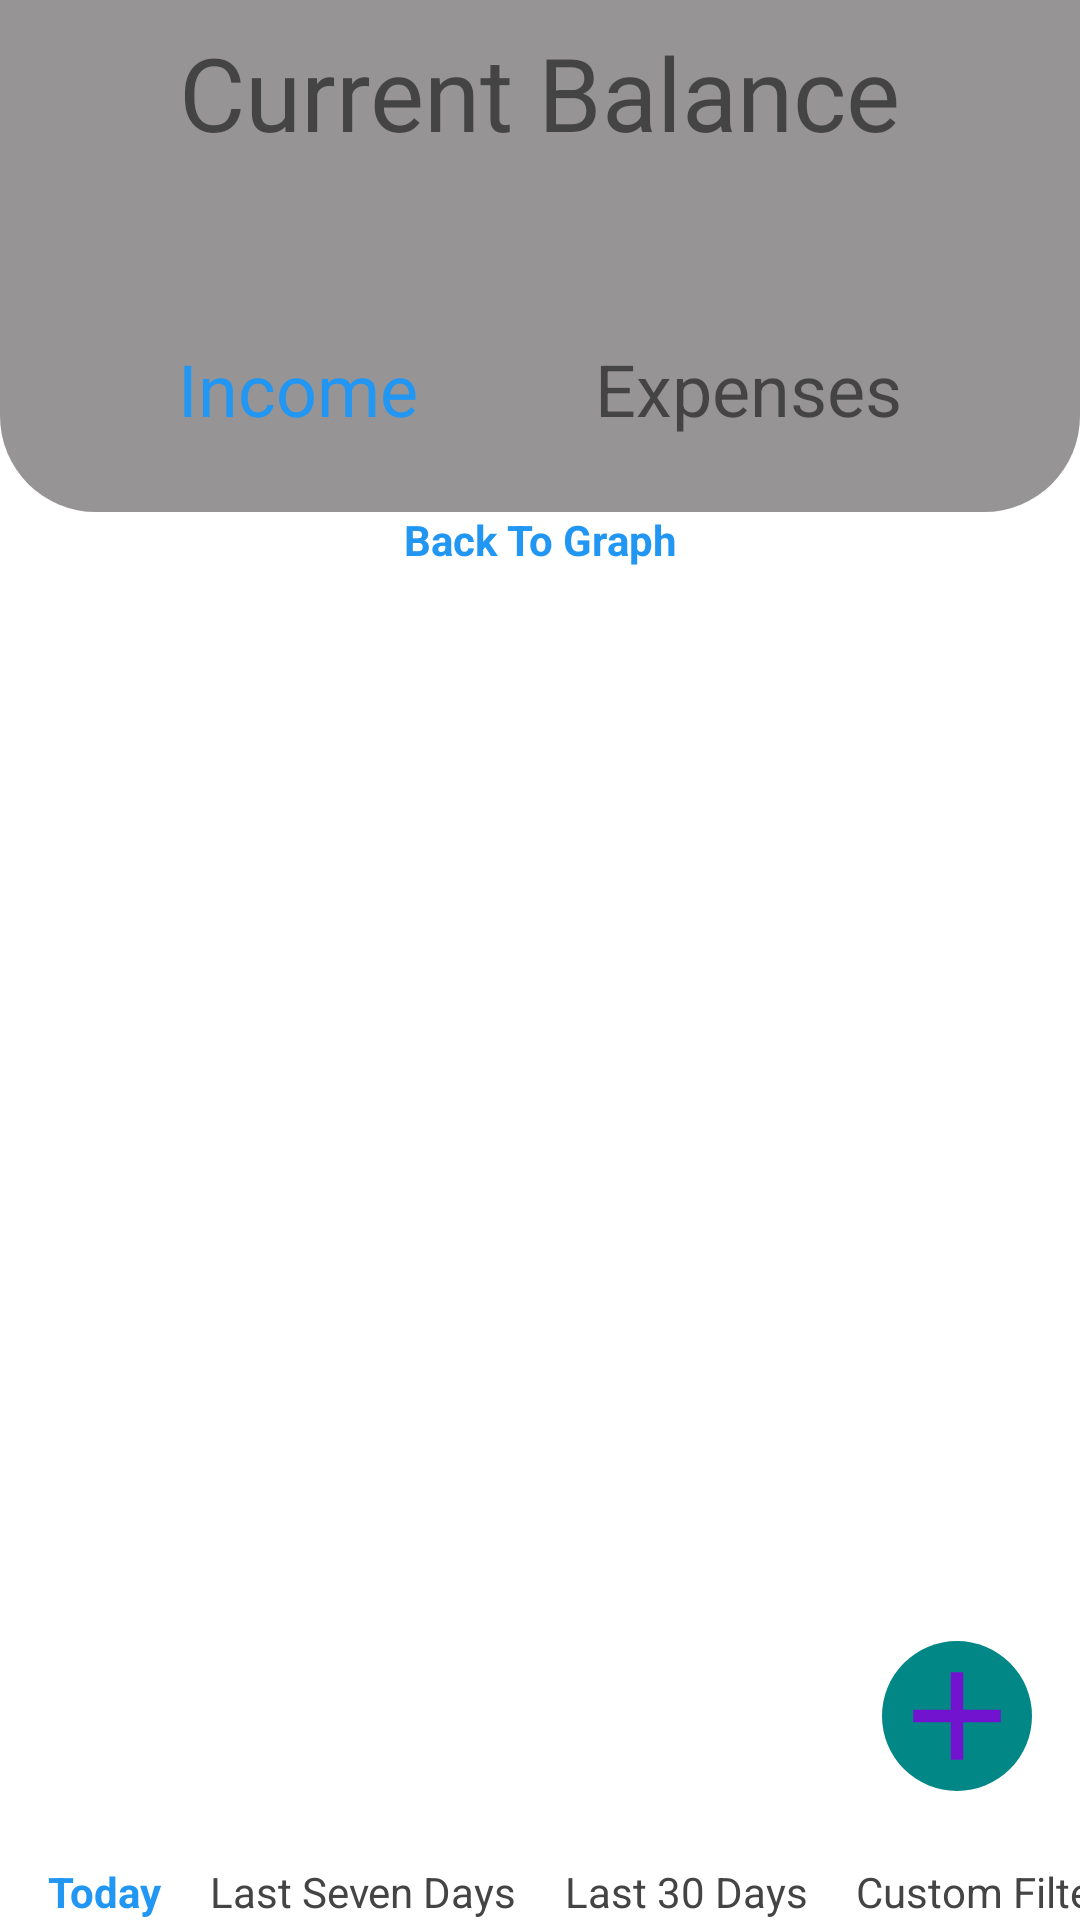

Icon bounding boxes for this 1080w x 1920h phone screenshot, format (x1, y1, x2, y2):
add: (882, 1641, 1032, 1791)
